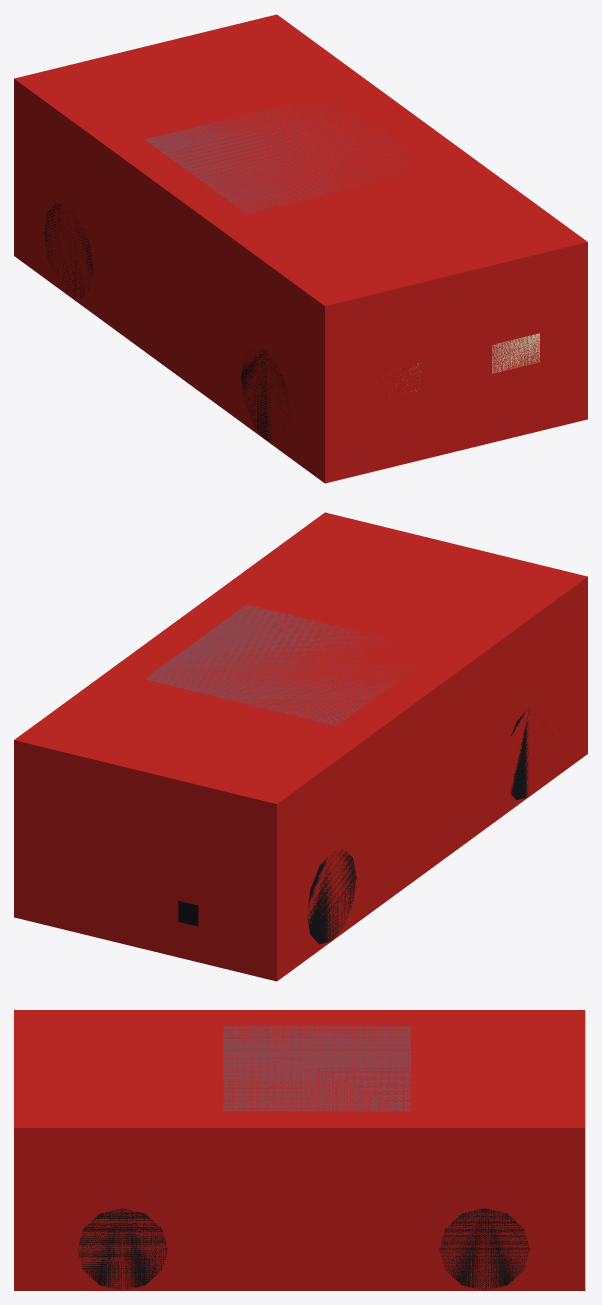
Rendered from car.obj.
3 renders of one model, top to bottom at view 1: azimuth 30°, elevation 25°; view 2: azimuth 150°, elevation 25°; view 3: azimuth 270°, elevation 25°, orthographic. The views are drawn at different scales.
Visible parts, largest first — view 1: col_hull, glass, wheel_fl, lamp_r, wheel_rl; view 2: col_hull, glass, body, wheel_rl, wheel_fl; view 3: col_hull, glass, wheel_rr, wheel_fr.
Boxes of the visible parts, box(x1,y1,x2,y2) form: col_hull: box(14, 14, 587, 483); glass: box(145, 100, 419, 213); wheel_fl: box(241, 349, 289, 440); lamp_r: box(492, 333, 539, 373); wheel_rl: box(44, 203, 93, 298); col_hull: box(14, 512, 587, 981); glass: box(145, 604, 418, 725); body: box(38, 809, 252, 933); wheel_rl: box(307, 850, 356, 944); wheel_fl: box(509, 708, 553, 799); col_hull: box(14, 1010, 585, 1290); glass: box(223, 1026, 410, 1111); wheel_rr: box(439, 1208, 529, 1290); wheel_fr: box(77, 1208, 167, 1290).
Size of the model in its own units: 2.08 by 1.34 by 4.28.
